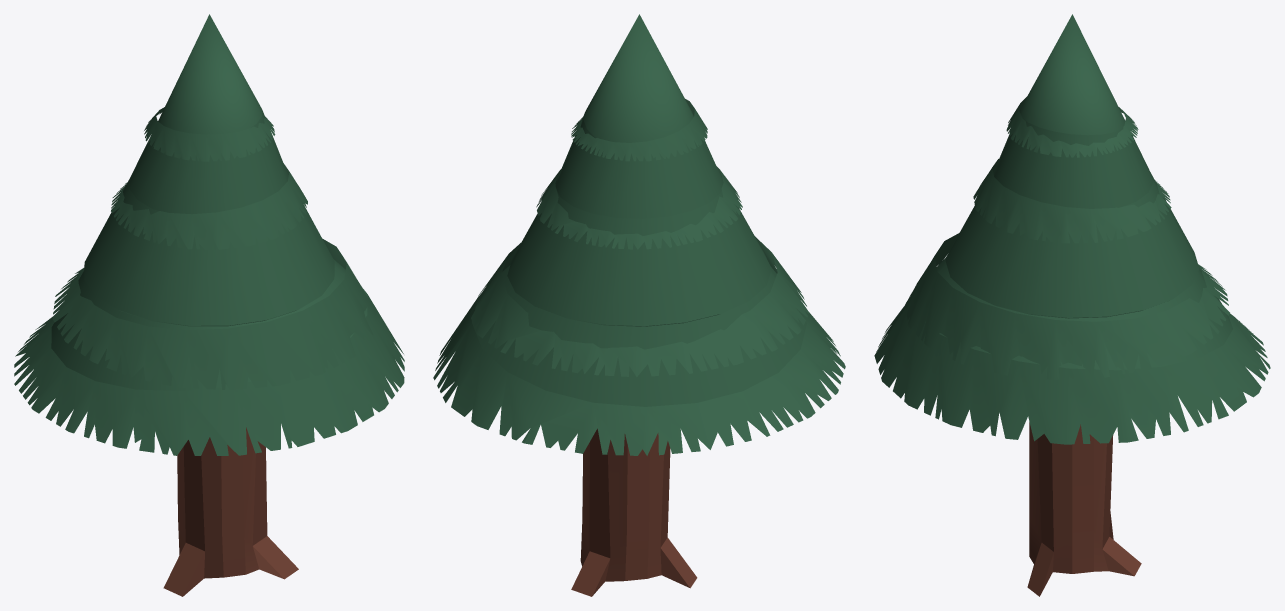
The model's file is Enviro_tree_001.fbx.
The picture shows the model from 3 angles, left to right: view 1: azimuth 30°, elevation 25°; view 2: azimuth 150°, elevation 25°; view 3: azimuth 270°, elevation 25°; orthographic projection. The views are drawn at different scales.
Visible parts, largest first — view 1: polySurface39; view 2: polySurface39; view 3: polySurface39.
Part boxes in pixels (x1,y1,x2,y2): polySurface39: [14, 14, 404, 596]; polySurface39: [433, 14, 845, 596]; polySurface39: [874, 14, 1270, 596].
Size of the model in its own units: 258 by 398 by 260.
